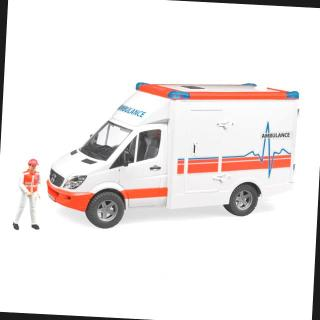Ambulance: (42, 68, 312, 258)
